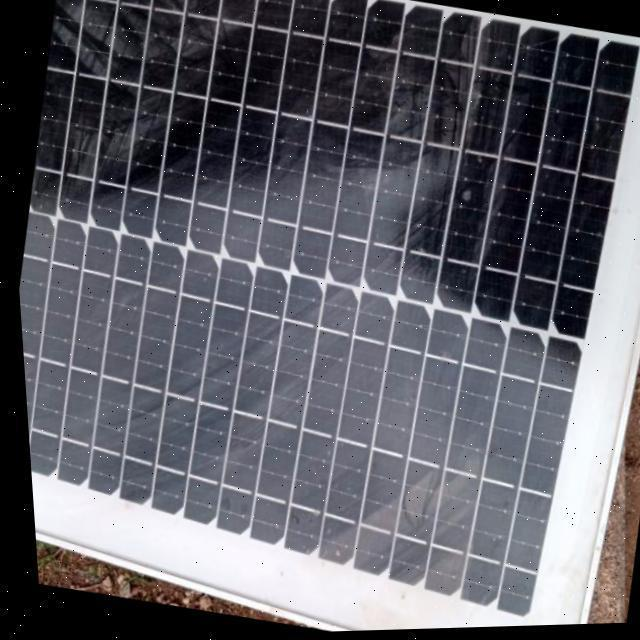Surface Contaminant: (15, 0, 608, 597)
